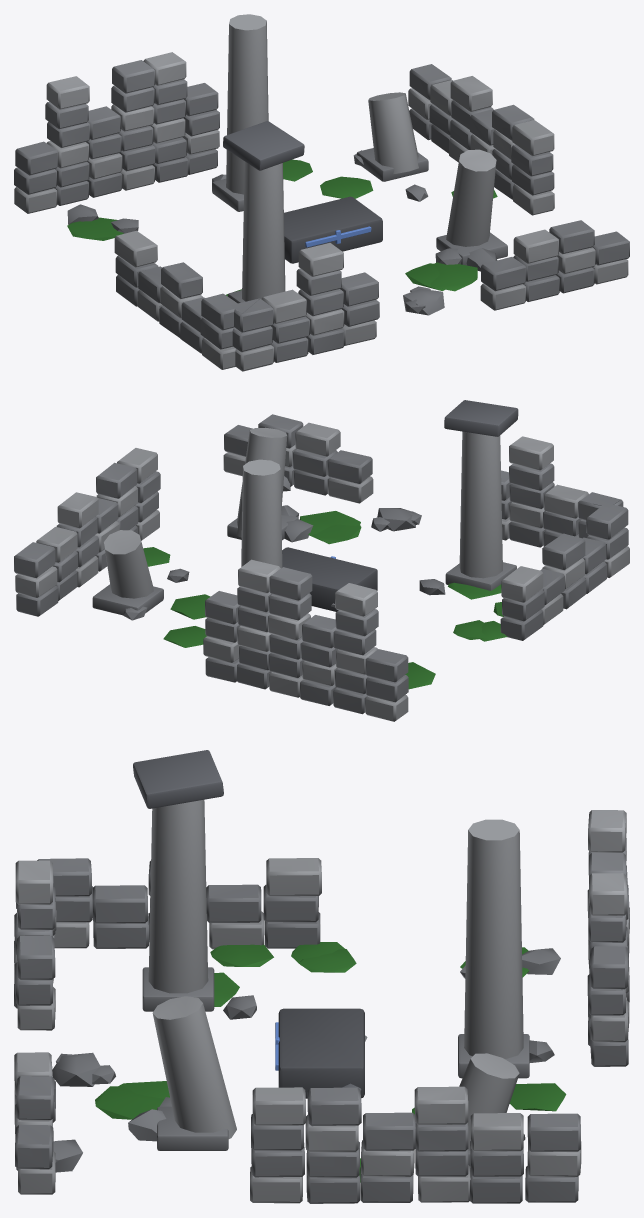
Rendered from ruins.glb.
The picture shows the model from 3 angles, top to bottom: view 1: azimuth 30°, elevation 25°; view 2: azimuth 150°, elevation 25°; view 3: azimuth 270°, elevation 25°; orthographic projection. The views are drawn at different scales.
Visible parts, largest first — view 1: ruins; view 2: ruins; view 3: ruins.
Part boxes in pixels (x1,y1,x2,y2): ruins: (14, 14, 629, 371); ruins: (14, 400, 629, 721); ruins: (14, 750, 629, 1203).
Size of the model in its own units: 8.97 by 3.61 by 8.59.
